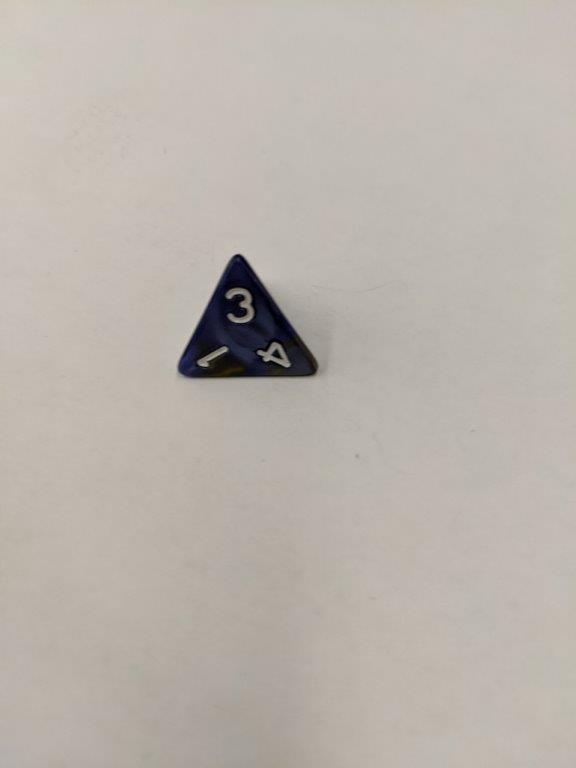d4-3: (176, 250, 326, 387)
